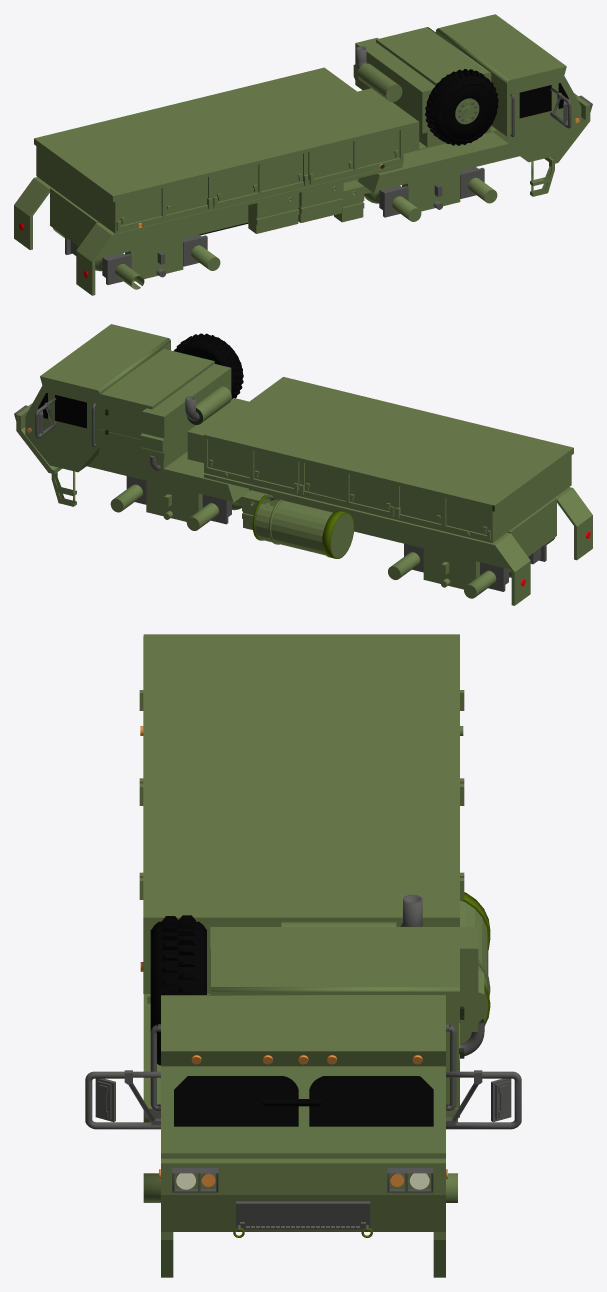
File: body.dae
The picture shows the model from 3 angles, top to bottom: view 1: azimuth 30°, elevation 25°; view 2: azimuth 150°, elevation 25°; view 3: azimuth 270°, elevation 25°; orthographic projection. The views are drawn at different scales.
Parts seen in each view (by area): view 1: SketchUp_033; view 2: SketchUp_033; view 3: SketchUp_033.
Boxes of the visible parts, box(x1,y1,x2,y2) form: SketchUp_033: box(14, 14, 592, 295); SketchUp_033: box(14, 324, 592, 605); SketchUp_033: box(85, 634, 521, 1277).
Bounding box in the file's own units: 11.96 × 4.45 × 3.1.
